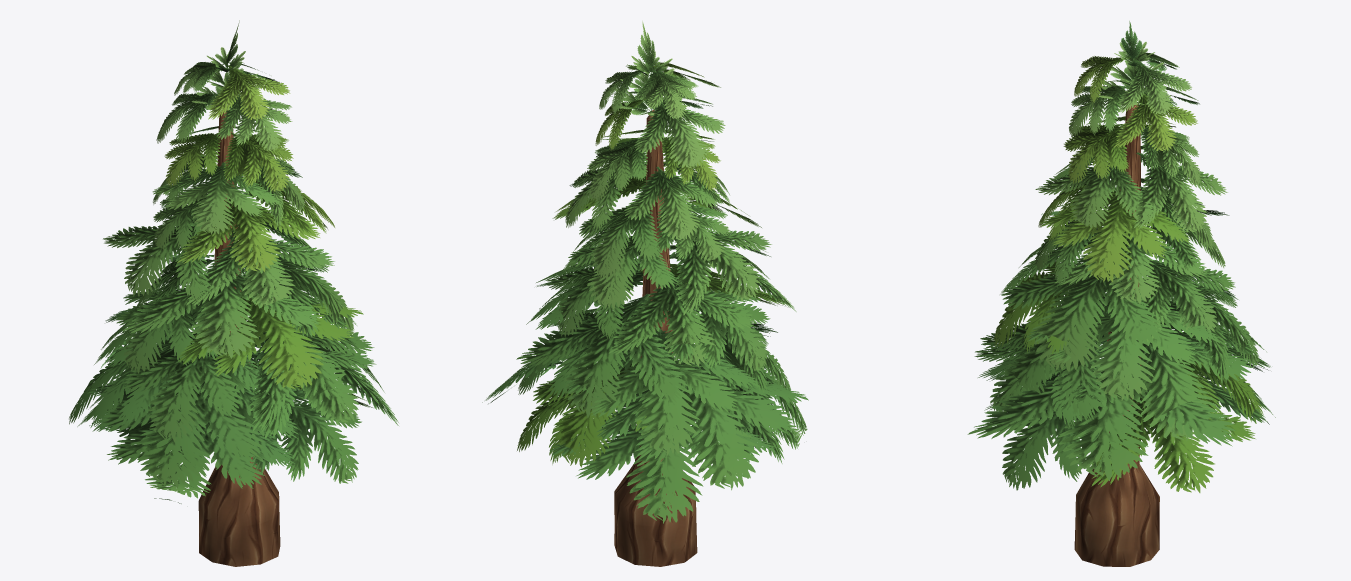
Rendered from fir_small.gltf.
3 renders of one model, left to right at view 1: azimuth 30°, elevation 25°; view 2: azimuth 150°, elevation 25°; view 3: azimuth 270°, elevation 25°, orthographic. The views are drawn at different scales.
Visible parts, largest first — view 1: fir_small_leaves_LOD0, fir_small_trunk_LOD0; view 2: fir_small_leaves_LOD0, fir_small_trunk_LOD0; view 3: fir_small_leaves_LOD0, fir_small_trunk_LOD0.
Boxes of the visible parts, bbox=[...] form: fir_small_leaves_LOD0: bbox=[69, 20, 398, 503]; fir_small_trunk_LOD0: bbox=[198, 110, 280, 566]; fir_small_leaves_LOD0: bbox=[482, 21, 808, 523]; fir_small_trunk_LOD0: bbox=[614, 110, 697, 566]; fir_small_leaves_LOD0: bbox=[967, 21, 1275, 492]; fir_small_trunk_LOD0: bbox=[1074, 103, 1159, 566].
Size of what is drawn, in the model's own units: 4.96 by 7.2 by 5.25.
Materials: 2 (2 with a texture image).
